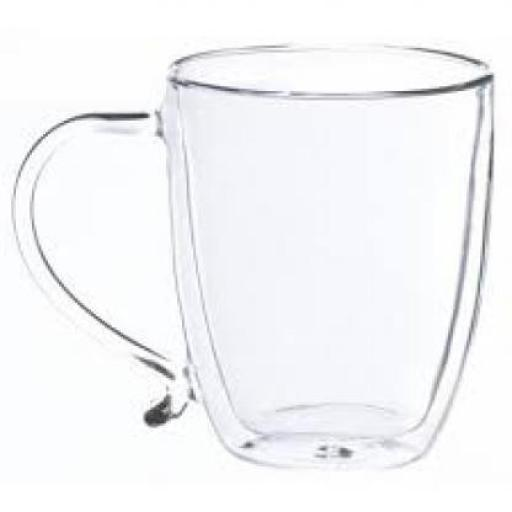glass: (14, 43, 496, 462)
